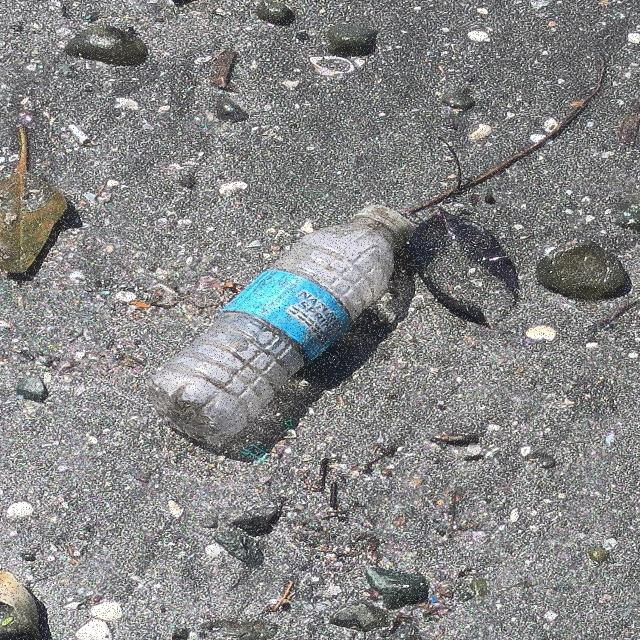plastic_waste: (146, 205, 417, 446)
